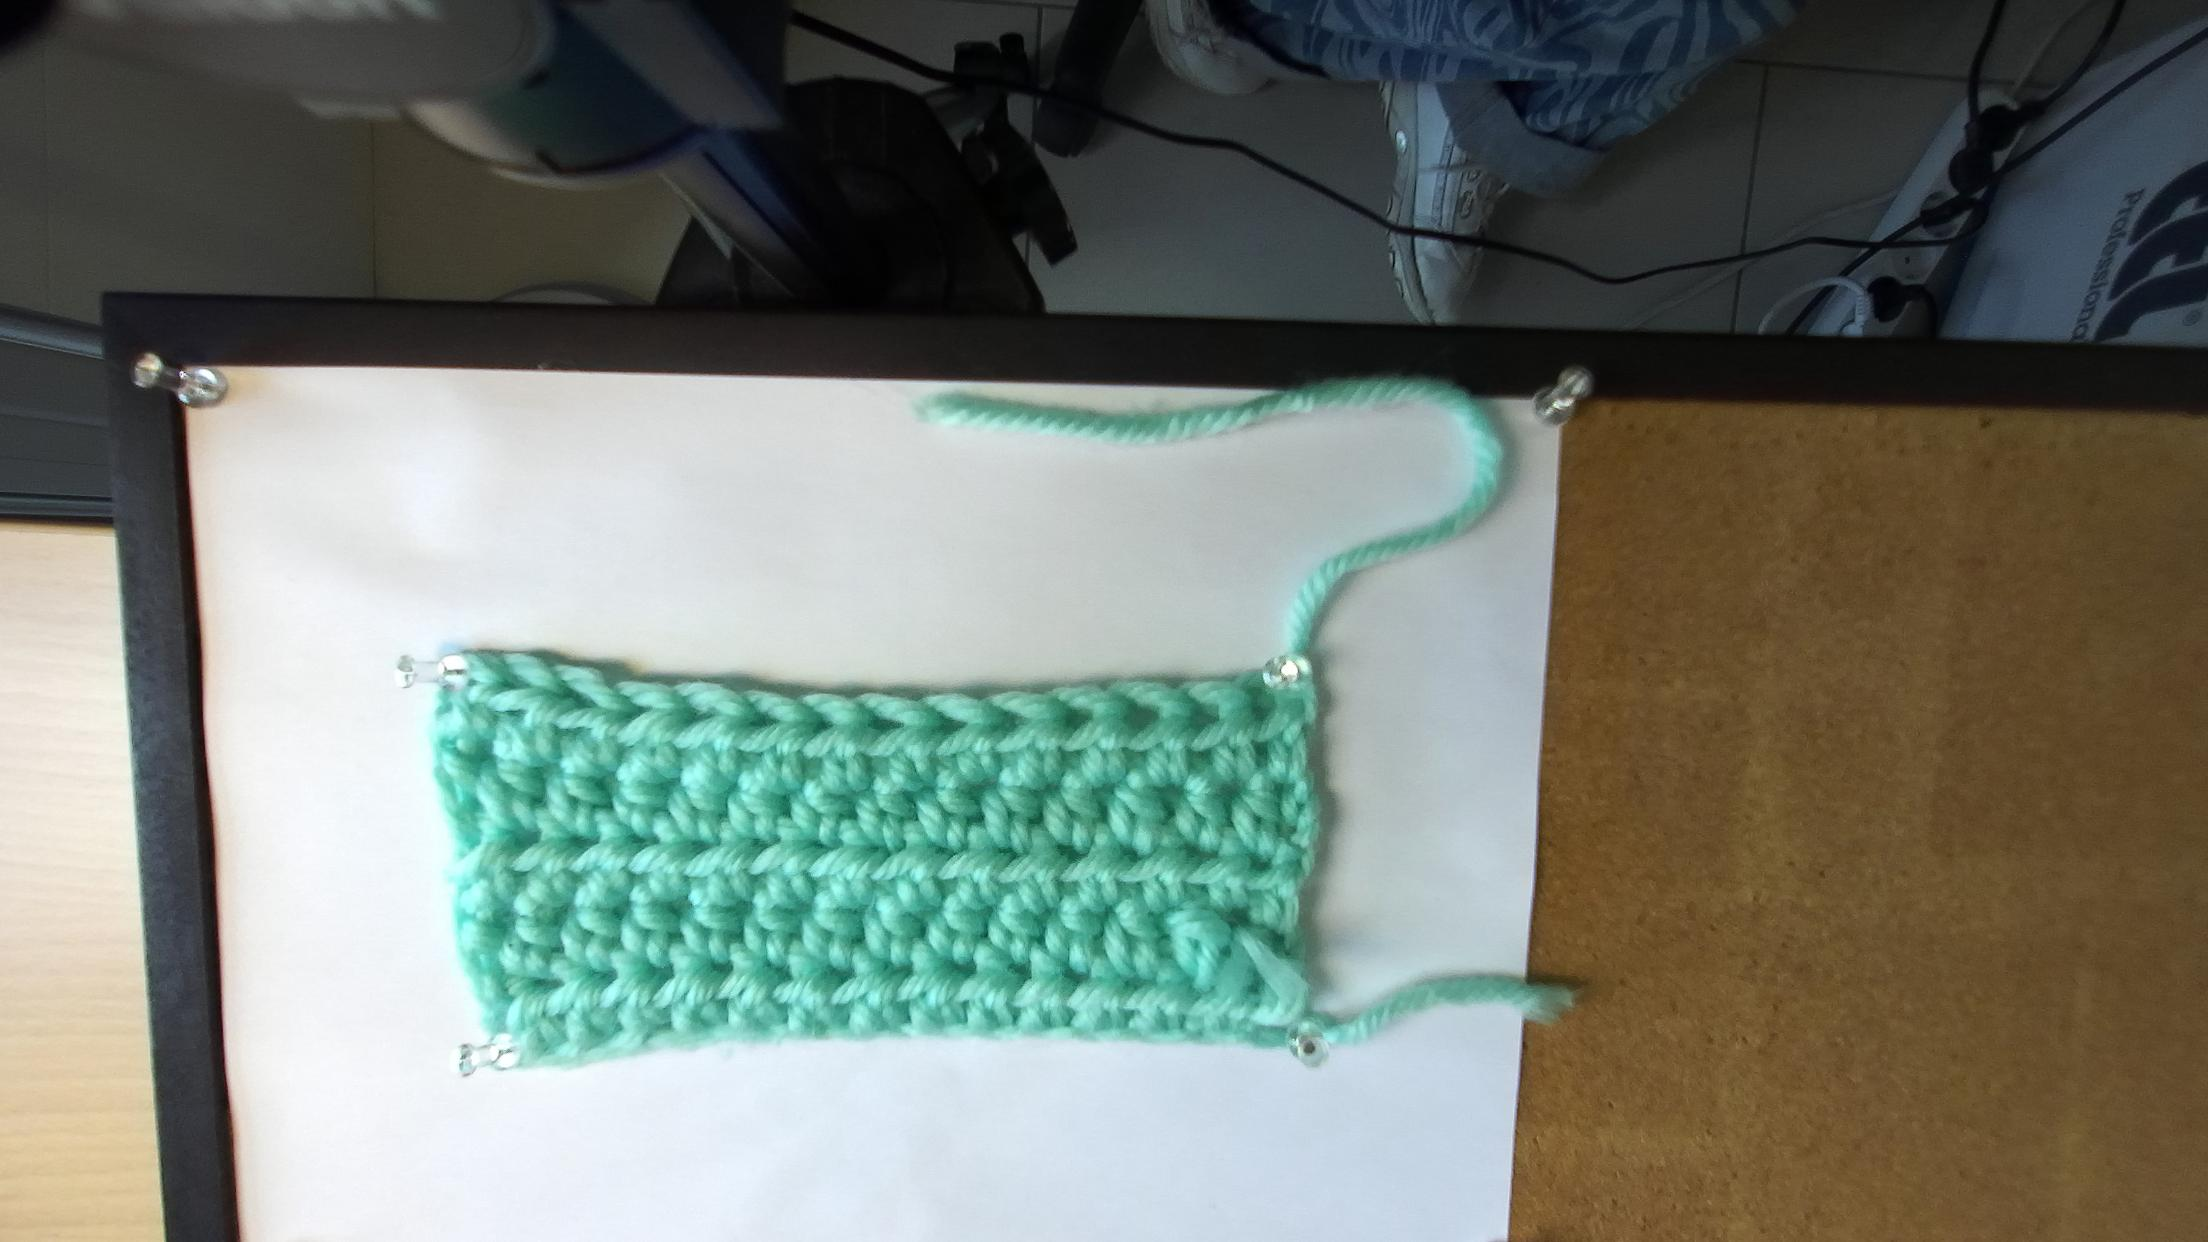hole: (490, 667, 534, 696), (1121, 699, 1157, 729), (557, 685, 601, 710), (1062, 705, 1095, 732), (1187, 704, 1221, 731), (681, 702, 717, 726), (617, 701, 655, 723), (996, 713, 1030, 734), (1245, 696, 1272, 722), (936, 714, 968, 735), (869, 717, 904, 734), (814, 713, 837, 735), (749, 711, 781, 726)
swatch: (422, 652, 1322, 1077)
